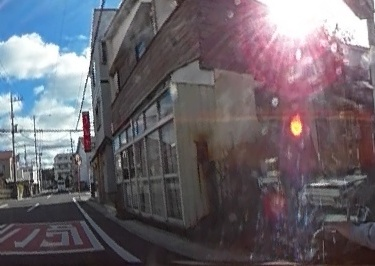person: (340, 42, 375, 261)
